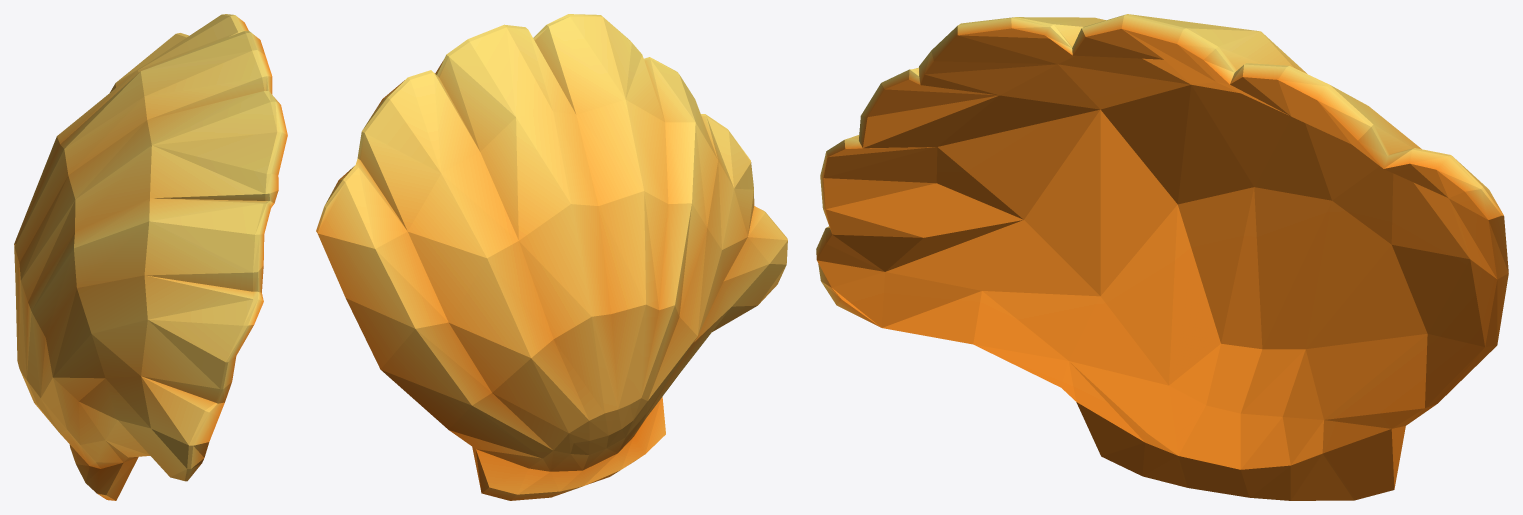
Rendered from CharSkyKid_Horn_Shell_01.glb.
3 views of the same model, side by side, from view 1: azimuth 30°, elevation 25°; view 2: azimuth 150°, elevation 25°; view 3: azimuth 270°, elevation 25° (orthographic). The views are drawn at different scales.
Visible parts, largest first — view 1: CharSkyKid_Horn_Shell_01; view 2: CharSkyKid_Horn_Shell_01; view 3: CharSkyKid_Horn_Shell_01.
Boxes of the visible parts, bbox=[...] form: CharSkyKid_Horn_Shell_01: bbox=[14, 14, 287, 500]; CharSkyKid_Horn_Shell_01: bbox=[316, 14, 787, 500]; CharSkyKid_Horn_Shell_01: bbox=[816, 14, 1508, 500].
Bounding box in the file's own units: 0.6769 × 1.04 × 1.16.
Materials: 1 (1 with a texture image).
